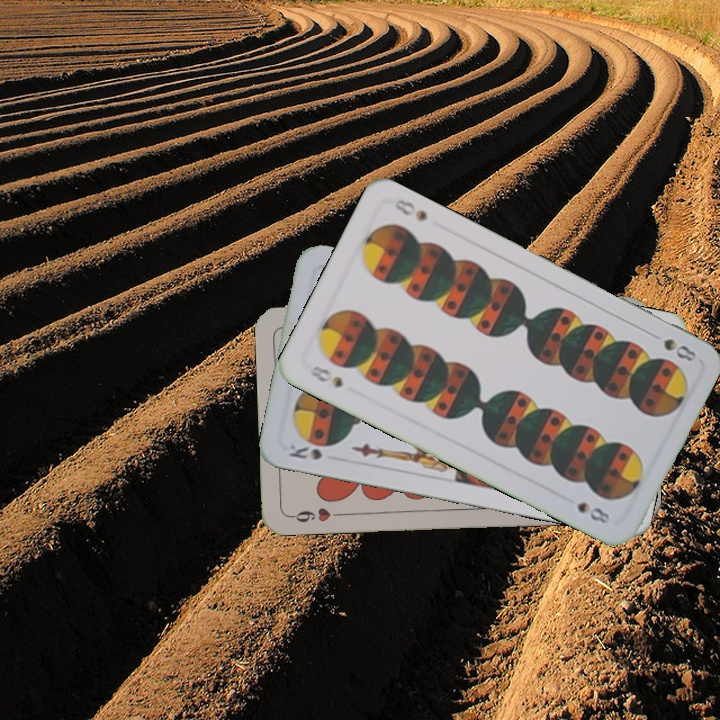H9: (286, 503, 345, 525)
S8: (659, 334, 699, 364), (305, 362, 345, 391)
SK: (283, 439, 325, 463)
